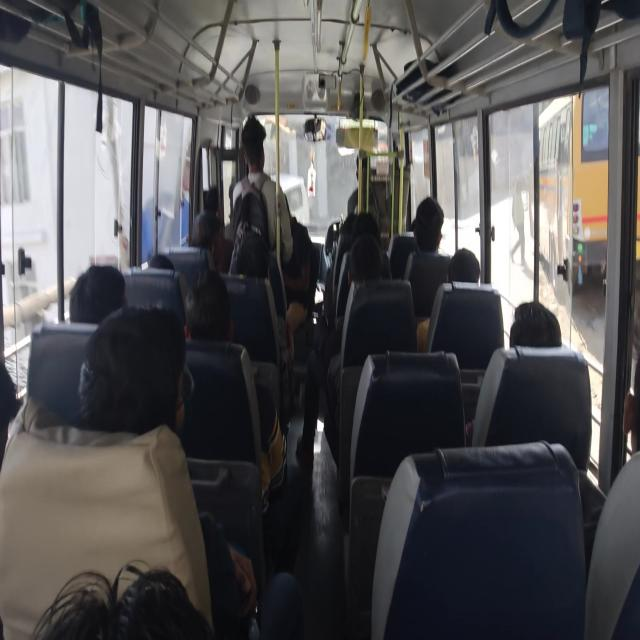person: (36, 545, 270, 640), (92, 317, 184, 462), (510, 304, 569, 381), (279, 202, 315, 322), (0, 356, 37, 465), (342, 248, 397, 294), (79, 262, 128, 310), (188, 285, 229, 339), (416, 192, 454, 248), (242, 115, 280, 170), (152, 241, 186, 283), (452, 244, 484, 288), (347, 213, 383, 241), (194, 202, 221, 238), (406, 220, 432, 245)
